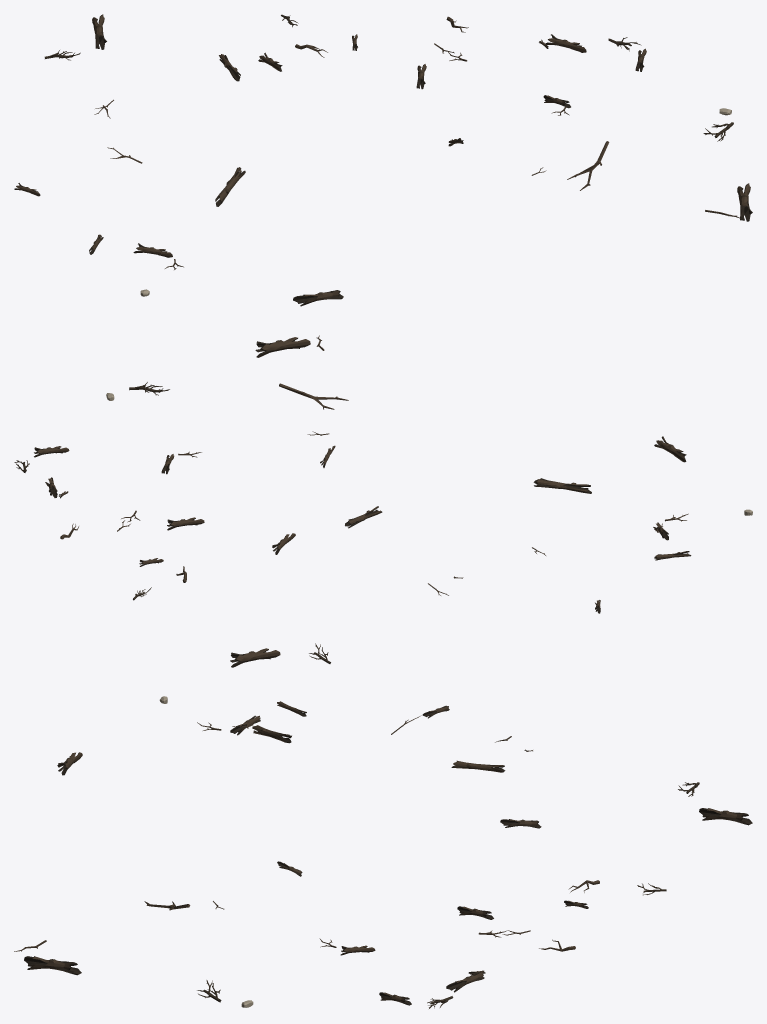
The model's file is Snow_Passable_Probuilder_0807.fbx.
The picture shows the model from 3 angles, top to bottom: view 1: azimuth 30°, elevation 25°; view 2: azimuth 150°, elevation 25°; view 3: azimuth 270°, elevation 25°; orthographic projection. The views are drawn at different scales.
Visible parts, largest first — view 1: no part large enough to name; view 2: SM_Tree_Log_02__10_; view 3: SM_Tree_Log_02__10_, SM_Tree_Log_02__2_.
Part boxes in pixels (box(x1,y1,x2,y2)): SM_Tree_Log_02__10_: box(255, 337, 310, 357); SM_Tree_Log_02__10_: box(24, 956, 81, 975); SM_Tree_Log_02__2_: box(699, 808, 752, 825).
Bounding box in the file's own units: 1958 × 193 × 1980.
1 material, 1 textured.
